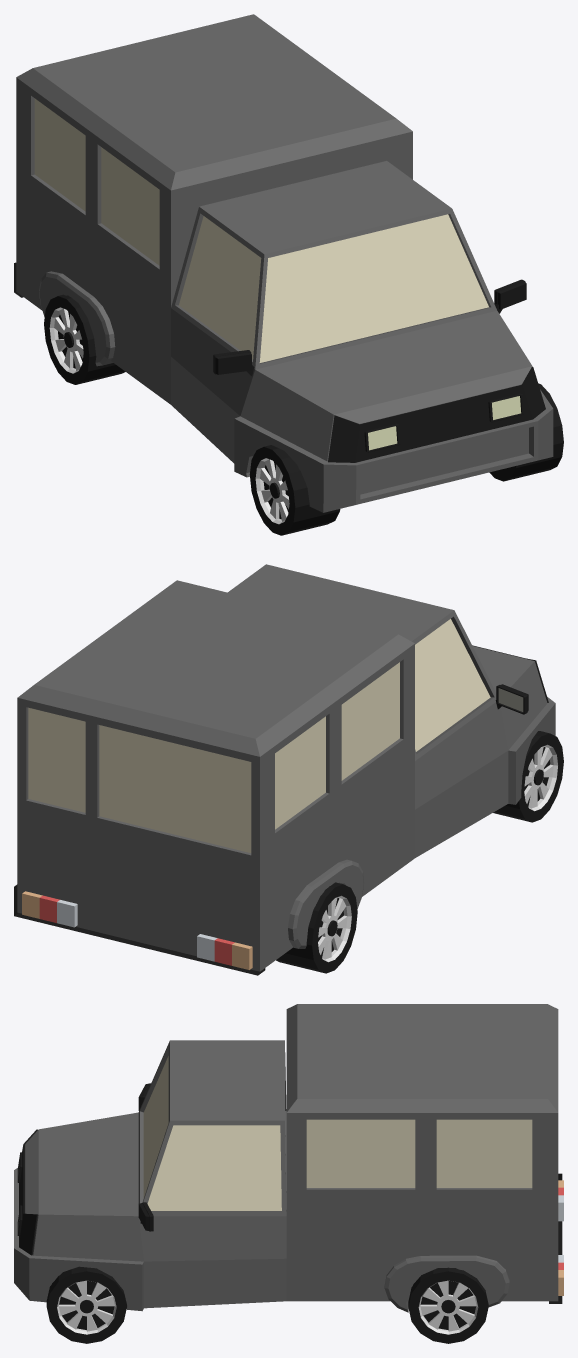
3 views of the same model, one above another, from view 1: azimuth 30°, elevation 25°; view 2: azimuth 150°, elevation 25°; view 3: azimuth 270°, elevation 25° (orthographic). The views are drawn at different scales.
Visible parts, largest first — view 1: tamaraw.025, Cube.002; view 2: tamaraw.025, Cube.002; view 3: tamaraw.025, Cube.001.
Part boxes in pixels (bbox=[...]): tamaraw.025: bbox=[14, 14, 563, 535]; Cube.002: bbox=[39, 271, 115, 366]; tamaraw.025: bbox=[14, 564, 563, 975]; Cube.002: bbox=[288, 859, 363, 948]; tamaraw.025: bbox=[14, 1004, 563, 1343]; Cube.001: bbox=[384, 1255, 509, 1312].
Size of the model in its own units: 450 by 369 by 784.
